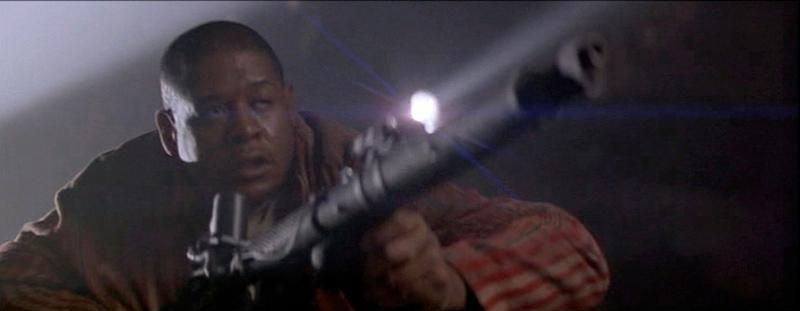gun: (219, 24, 627, 292)
